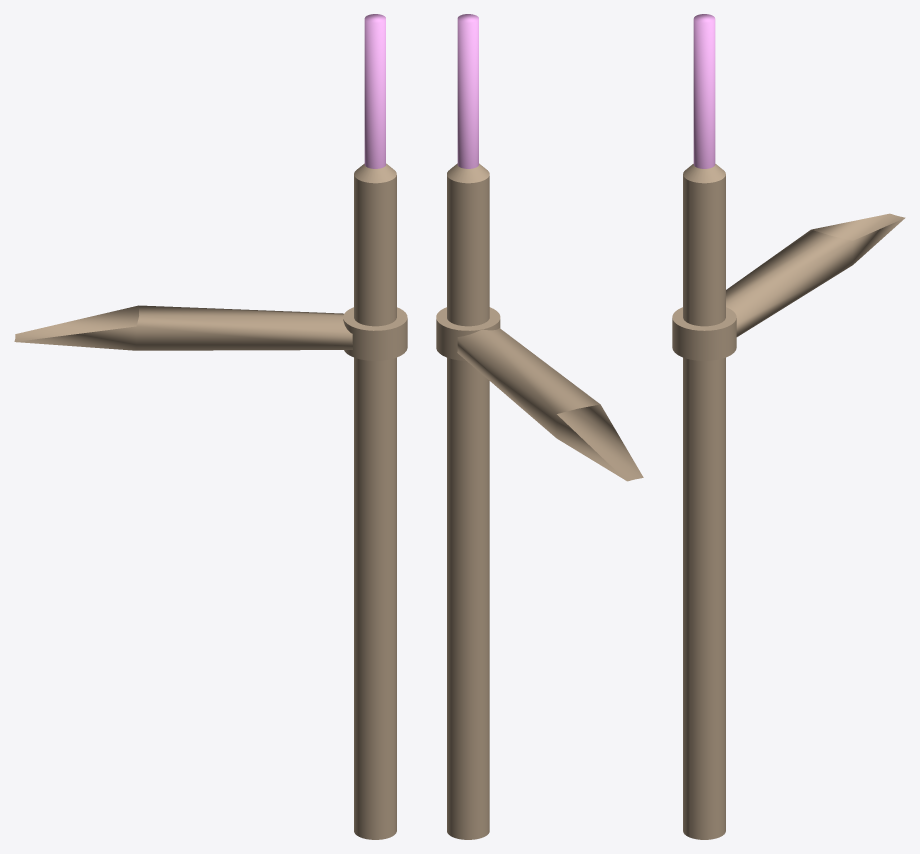
File: OU_AR_NftGallery_10_D.fbx
3 renders of one model, left to right at view 1: azimuth 30°, elevation 25°; view 2: azimuth 150°, elevation 25°; view 3: azimuth 270°, elevation 25°, orthographic.
Visible parts, largest first — view 1: OU_AR_BusinessIsland_10_D; view 2: OU_AR_BusinessIsland_10_D; view 3: OU_AR_BusinessIsland_10_D.
Part boxes in pixels (x1,y1,x2,y2): OU_AR_BusinessIsland_10_D: (14,14,407,839); OU_AR_BusinessIsland_10_D: (436,14,643,839); OU_AR_BusinessIsland_10_D: (672,14,905,839).
Size of the model in its own units: 3186 by 8350 by 2174.
